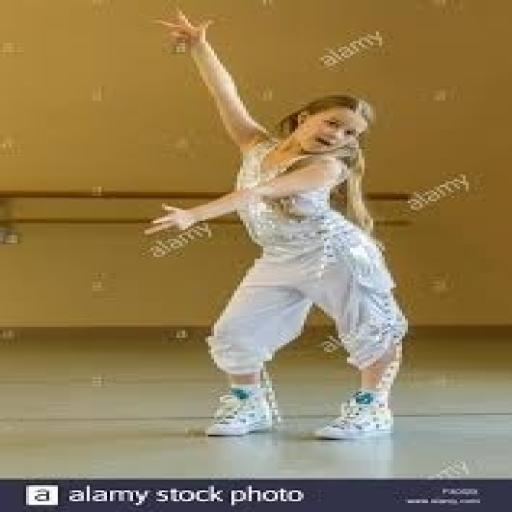dancing: (142, 7, 414, 442)
